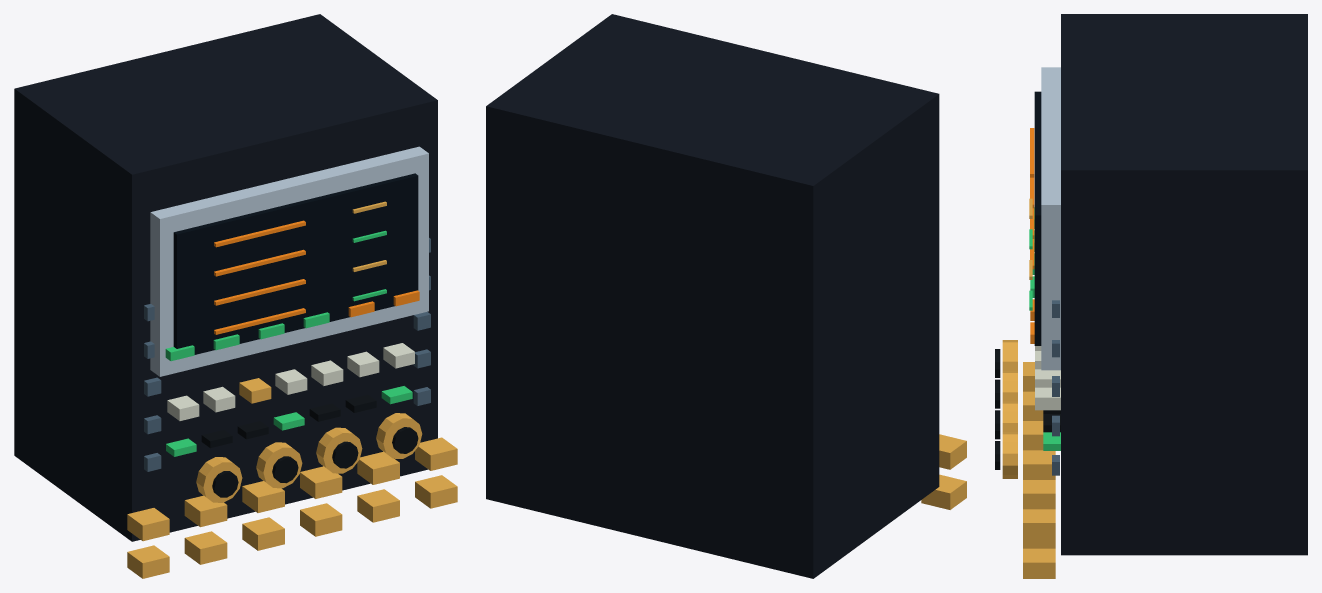
Rendered from 46_L92_DrillFeedServoController.fbx.
The picture shows the model from 3 angles, left to right: view 1: azimuth 30°, elevation 25°; view 2: azimuth 150°, elevation 25°; view 3: azimuth 270°, elevation 25°; orthographic projection. The views are drawn at different scales.
Visible parts, largest first — view 1: L92_DrillFeedServoController, L92_DrillFeedServoController_Part_0009, L92_DrillFeedServoController_Part_0013, L92_DrillFeedServoController_Part_0015, L92_DrillFeedServoController_Part_0011, L92_DrillFeedServoController_Part_0017, L92_DrillFeedServoController_Part_0010, L92_DrillFeedServoController_Part_0016; view 2: L92_DrillFeedServoController; view 3: L92_DrillFeedServoController, L92_DrillFeedServoController_Part_0017, L92_DrillFeedServoController_Part_0013, L92_DrillFeedServoController_Part_0011, L92_DrillFeedServoController_Part_0015.
Part boxes in pixels (x1,y1,x2,y2): L92_DrillFeedServoController: (14,14,457,578); L92_DrillFeedServoController_Part_0009: (165,312,329,361); L92_DrillFeedServoController_Part_0013: (256,442,302,488); L92_DrillFeedServoController_Part_0015: (316,427,362,473); L92_DrillFeedServoController_Part_0011: (196,457,242,502); L92_DrillFeedServoController_Part_0017: (376,413,422,458); L92_DrillFeedServoController_Part_0010: (348,290,419,317); L92_DrillFeedServoController_Part_0016: (332,441,358,468); L92_DrillFeedServoController: (486,14,966,578); L92_DrillFeedServoController: (1023,14,1307,578); L92_DrillFeedServoController_Part_0017: (1002,432,1017,478); L92_DrillFeedServoController_Part_0013: (1002,370,1017,401); L92_DrillFeedServoController_Part_0011: (1002,340,1017,370); L92_DrillFeedServoController_Part_0015: (1002,401,1017,431).
Size of the model in its own units: 105 by 124 by 86.2.
